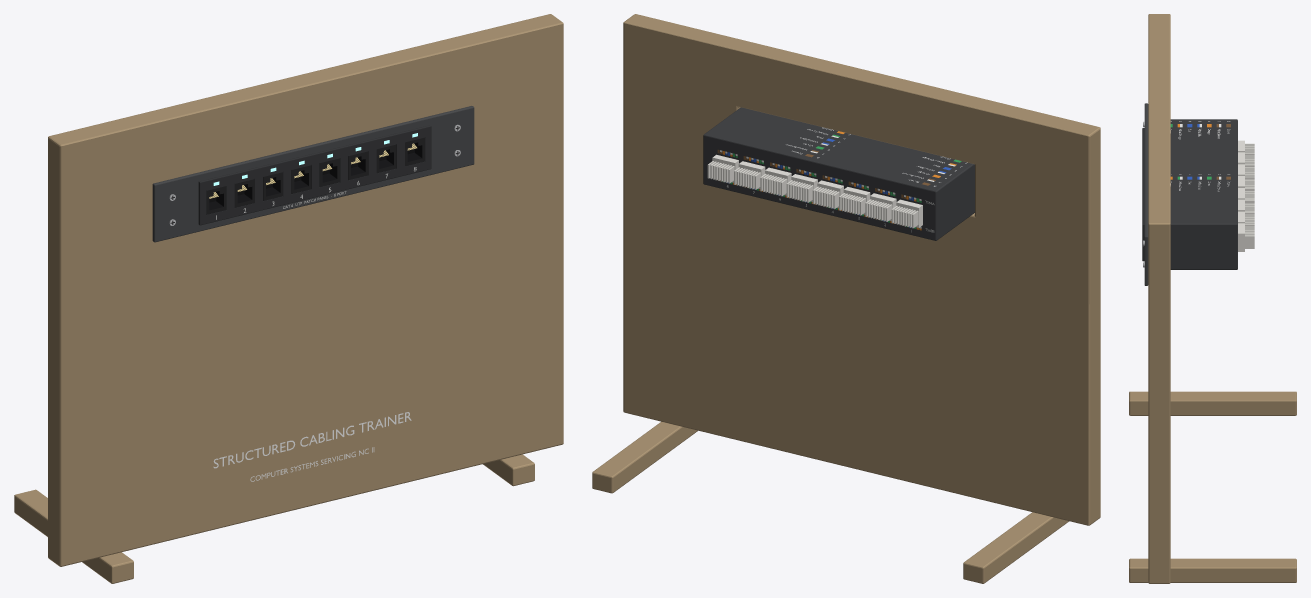
File: PatchPanel_8Port.fbx
3 views of the same model, side by side, from view 1: azimuth 30°, elevation 25°; view 2: azimuth 150°, elevation 25°; view 3: azimuth 270°, elevation 25° (orthographic). The views are drawn at different scales.
Parts seen in each view (by area): view 1: TrainingBoard_Panel, Panel_Front, Panel_Bezel, TrainingBoard_FootL, TrainingBoard_Title, TrainingBoard_FootR; view 2: TrainingBoard_Panel, Housing_Main, TrainingBoard_FootL, TrainingBoard_FootR, Labels_T568_ColorCode, PunchDown_01, PunchDown_06, PunchDown_07, PunchDown_02, PunchDown_04, PunchDown_05, PunchDown_08 (+1 smaller); view 3: TrainingBoard_Panel, Housing_Main, TrainingBoard_FootL, TrainingBoard_FootR, Panel_Front, PunchDown_08, Panel_Bezel, Labels_TopLegend_Chips.
Boxes of the visible parts, <box> form: TrainingBoard_Panel: <box>48,14,563,566</box>; Panel_Front: <box>152,106,474,242</box>; Panel_Bezel: <box>198,125,431,225</box>; TrainingBoard_FootL: <box>14,489,133,583</box>; TrainingBoard_Title: <box>213,412,411,481</box>; TrainingBoard_FootR: <box>483,454,534,486</box>; TrainingBoard_Panel: <box>623,14,1100,525</box>; Housing_Main: <box>703,107,974,240</box>; TrainingBoard_FootL: <box>963,512,1069,583</box>; TrainingBoard_FootR: <box>592,421,697,493</box>; Labels_T568_ColorCode: <box>717,149,921,230</box>; PunchDown_01: <box>891,199,922,228</box>; PunchDown_06: <box>760,167,791,196</box>; PunchDown_07: <box>734,161,765,189</box>; PunchDown_02: <box>865,193,896,221</box>; PunchDown_04: <box>812,180,843,209</box>; PunchDown_05: <box>786,174,817,202</box>; PunchDown_08: <box>707,154,738,183</box>; TrainingBoard_Panel: <box>1148,14,1170,583</box>; Housing_Main: <box>1170,119,1237,269</box>; TrainingBoard_FootL: <box>1129,391,1296,415</box>; TrainingBoard_FootR: <box>1129,558,1296,582</box>; Panel_Front: <box>1144,103,1148,285</box>; PunchDown_08: <box>1238,223,1254,251</box>; Panel_Bezel: <box>1142,128,1144,261</box>; Labels_TopLegend_Chips: <box>1170,124,1230,179</box>.
Bounding box in the file's own units: 40 × 33.4 × 13.5.
